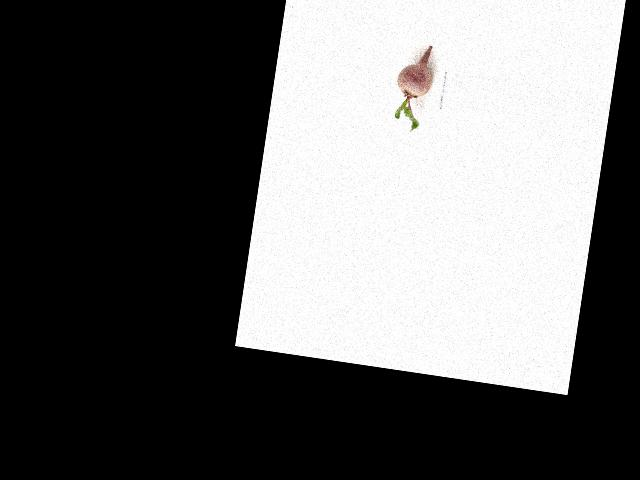beet: (390, 42, 437, 134)
